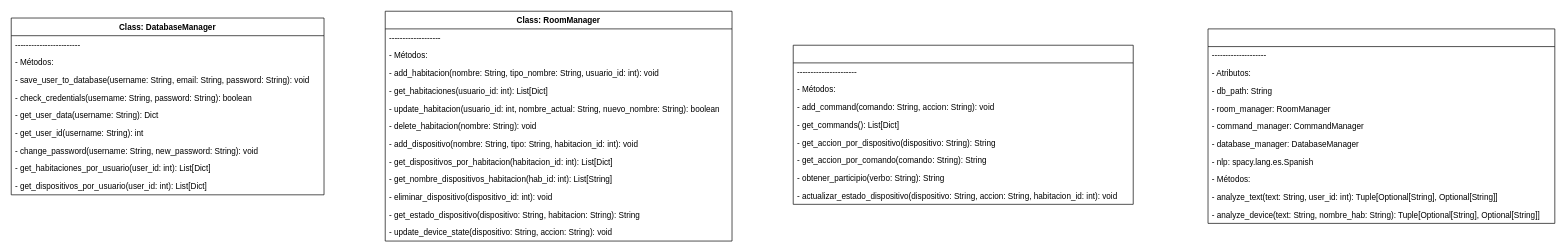
This 1566x252 diagram has some shape labels left out. The box of each missing label's shape, as (x1, y1, x2, y2) in pixels:
Class: CommandManager: (793, 45, 1133, 204)
Class: TextAnalyzer: (1207, 28, 1555, 223)
